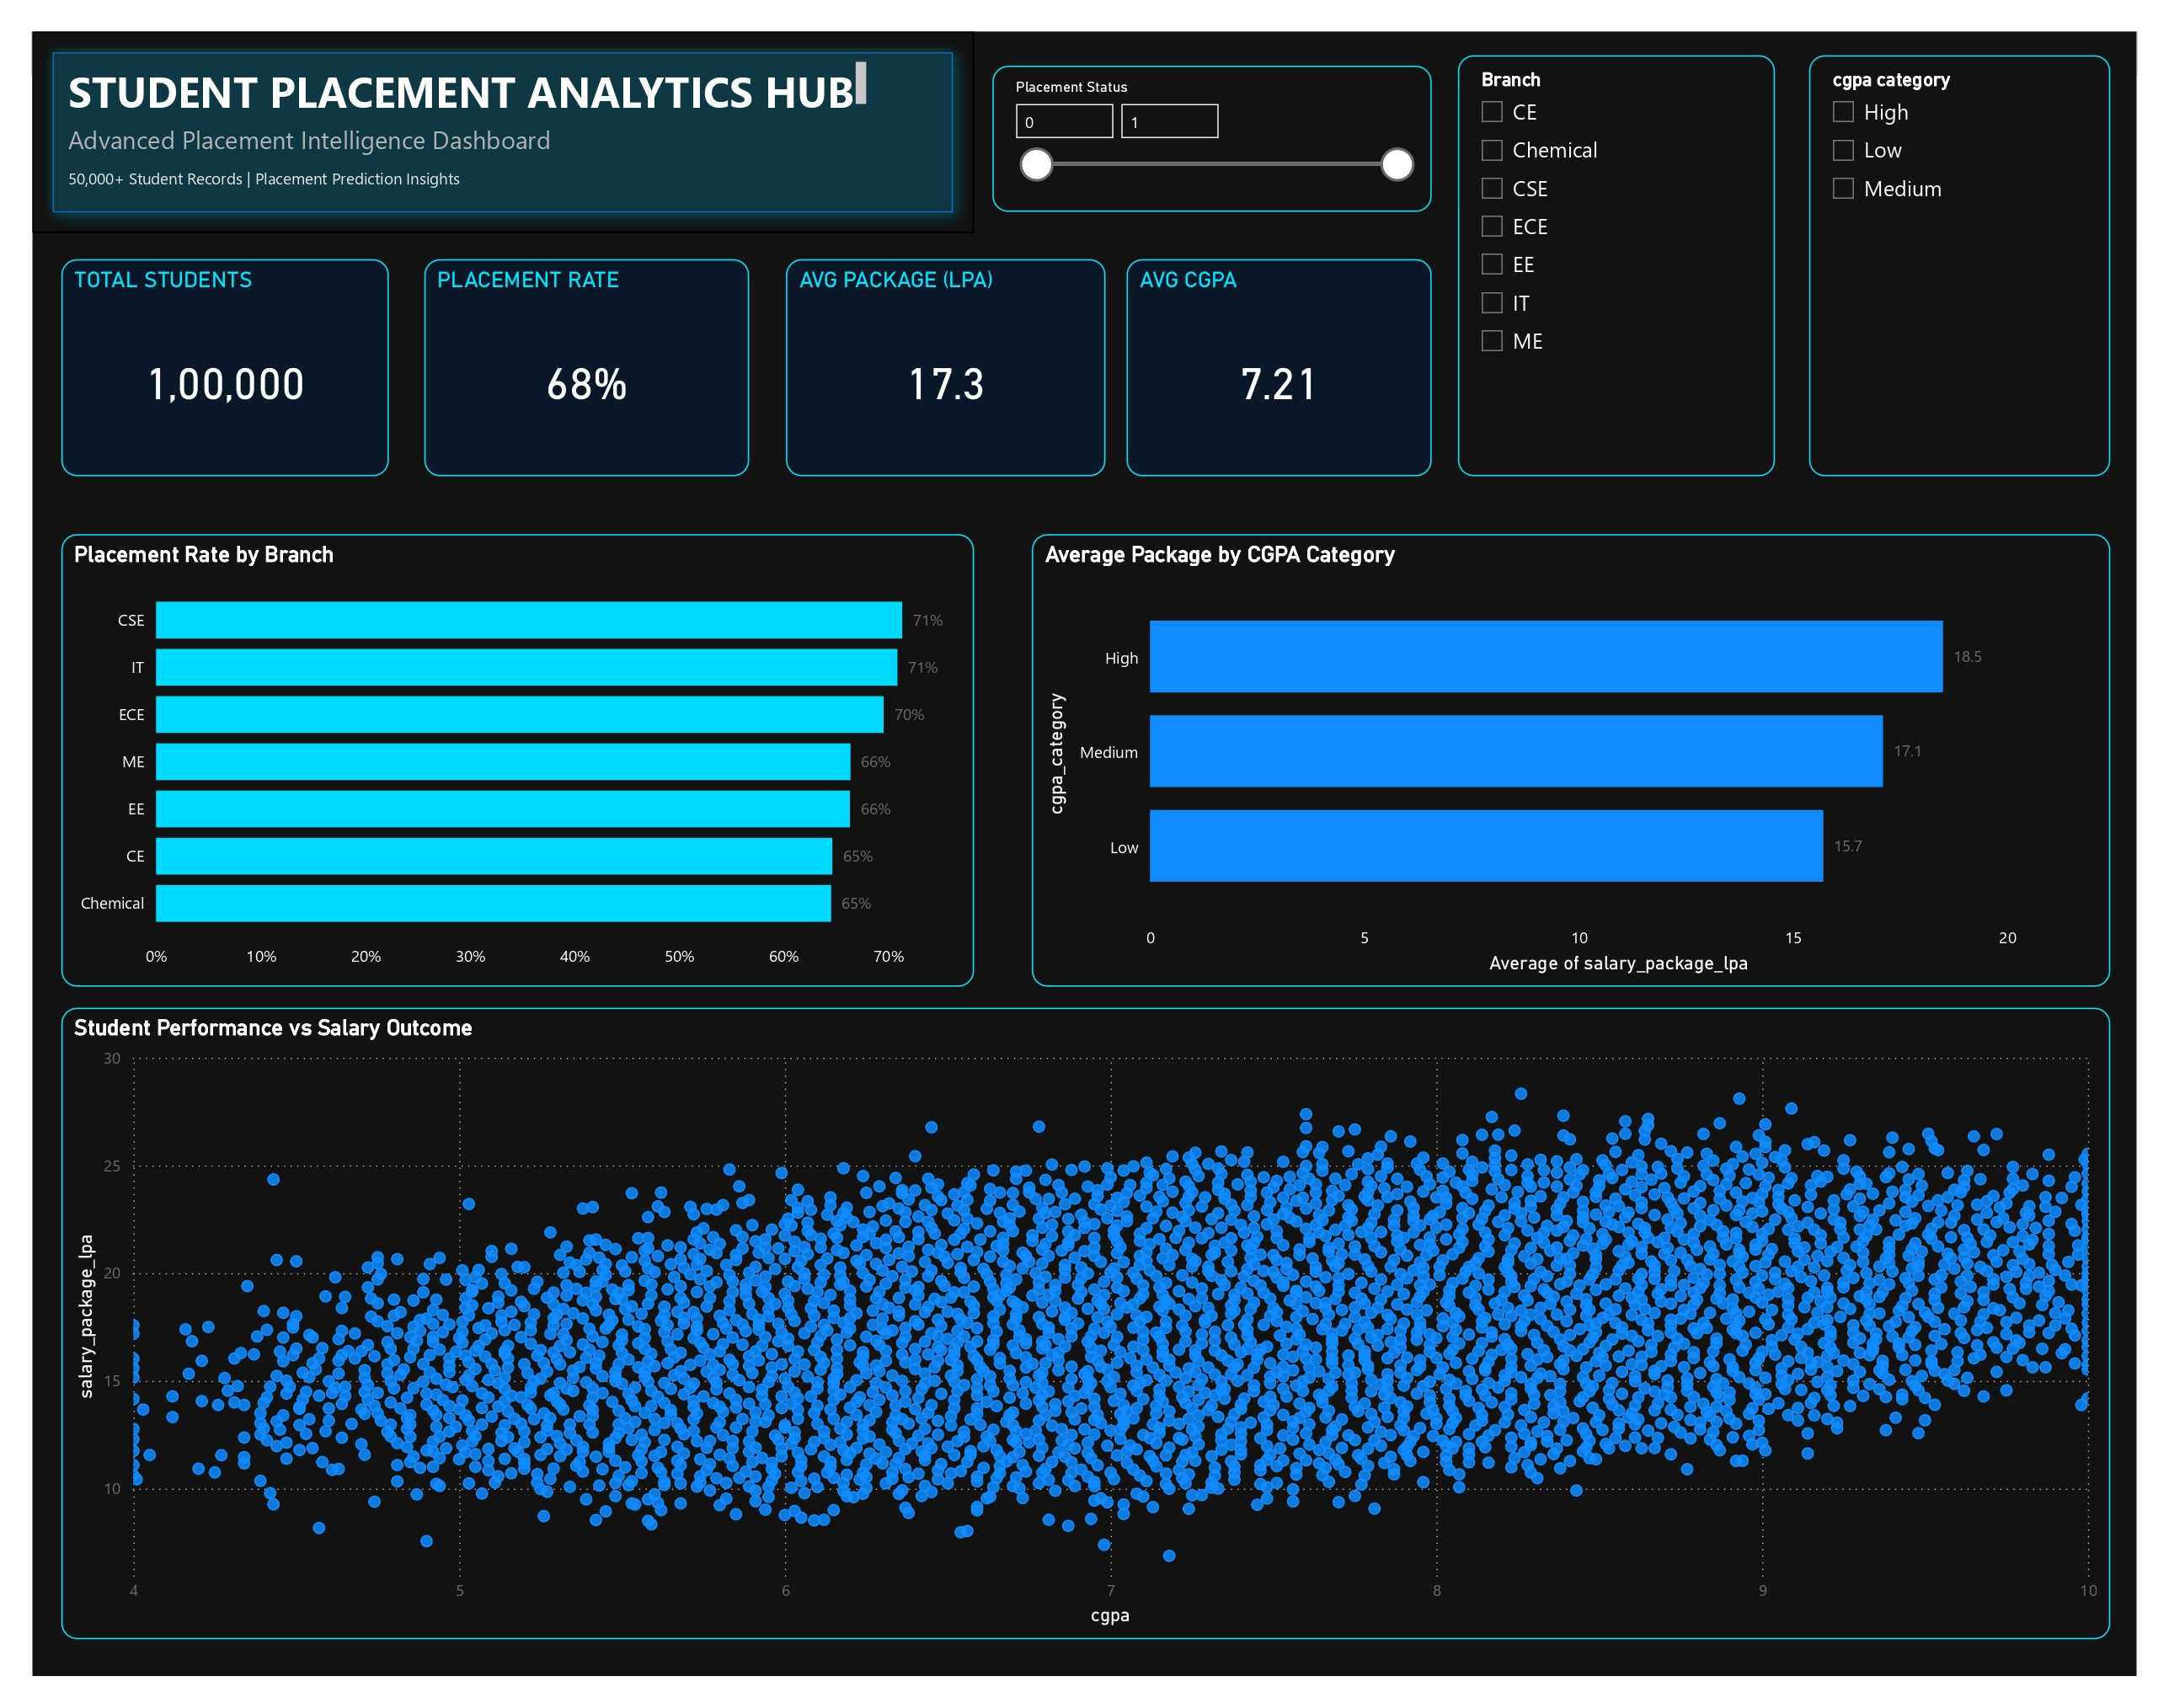

Layout of this report page (visuals, bound fields, positions):
{"tool":"powerbi","page":{"name":"Placement Performance Overview","canvas":[1600,1250],"ordinal":0},"visuals":[{"type":"shape","box":[0,0,715.8,152.8],"z":0},{"type":"textbox","box":[21.7,18.1,617.7,47.1],"z":1000},{"type":"textbox","box":[22.1,64.3,386.1,52.3],"z":2000},{"type":"textbox","box":[22.1,96.5,386.1,40.2],"z":3000},{"type":"card","title":"TOTAL STUDENTS","fields":{"Values":["CountNonNull(placement_cleaned.cgpa)"]},"box":[22.1,172.9,249.3,164.9],"z":4000},{"type":"card","title":"AVG CGPA","fields":{"Values":["Avg(placement_cleaned.cgpa)"]},"box":[832.4,172.9,231.2,164.9],"z":5000},{"type":"card","title":"AVG PACKAGE (LPA)","fields":{"Values":["Avg(placement_cleaned.salary_package_lpa)"]},"box":[573.1,172.9,243.3,164.9],"z":6000},{"type":"card","title":"PLACEMENT RATE","fields":{"Values":["placement_cleaned.Placement Rate"]},"box":[297.6,172.9,247.3,164.9],"z":7000},{"type":"clusteredBarChart","title":"Placement Rate by Branch","fields":{"Category":["placement_cleaned.branch"],"Y":["placement_cleaned.Placement Rate %"]},"box":[22.1,382,693.7,343.8],"z":8000},{"type":"clusteredBarChart","title":"Average Package by CGPA Category","fields":{"Category":["placement_cleaned.cgpa_category"],"Y":["Avg(placement_cleaned.salary_package_lpa)"]},"box":[760.1,382,820.4,343.8],"z":9000},{"type":"scatterChart","title":"Student Performance vs Salary Outcome","fields":{"X":["placement_cleaned.cgpa"],"Y":["placement_cleaned.salary_package_lpa"]},"box":[22,742.4,1557.6,479.7],"z":10000},{"type":"slicer","fields":{"Values":["placement_cleaned.branch"]},"box":[1083.8,18.1,241.3,319.7],"z":11000},{"type":"slicer","fields":{"Values":["placement_cleaned.cgpa_category"]},"box":[1351.2,18.1,229.2,319.7],"z":12000},{"type":"slicer","fields":{"Values":["placement_cleaned.placement_status"]},"box":[729.9,26.1,333.8,110.6],"z":13000}]}

Visuals, with their boxes on the page's 1600x1250 design canvas (x1, y1, x2, y2). These are canvas units, not pixel positions in the 2169x1708 screenshot, which may show the page scaled, cropped or inside an application window:
shape: l=0, t=0, r=716, b=153
textbox: l=22, t=18, r=639, b=65
textbox: l=22, t=64, r=408, b=117
textbox: l=22, t=96, r=408, b=137
"TOTAL STUDENTS" card: l=22, t=173, r=271, b=338
"AVG CGPA" card: l=832, t=173, r=1064, b=338
"AVG PACKAGE (LPA)" card: l=573, t=173, r=816, b=338
"PLACEMENT RATE" card: l=298, t=173, r=545, b=338
"Placement Rate by Branch" clusteredBarChart: l=22, t=382, r=716, b=726
"Average Package by CGPA Category" clusteredBarChart: l=760, t=382, r=1580, b=726
"Student Performance vs Salary Outcome" scatterChart: l=22, t=742, r=1580, b=1222
slicer - placement_cleaned.branch: l=1084, t=18, r=1325, b=338
slicer - placement_cleaned.cgpa_category: l=1351, t=18, r=1580, b=338
slicer - placement_cleaned.placement_status: l=730, t=26, r=1064, b=137
